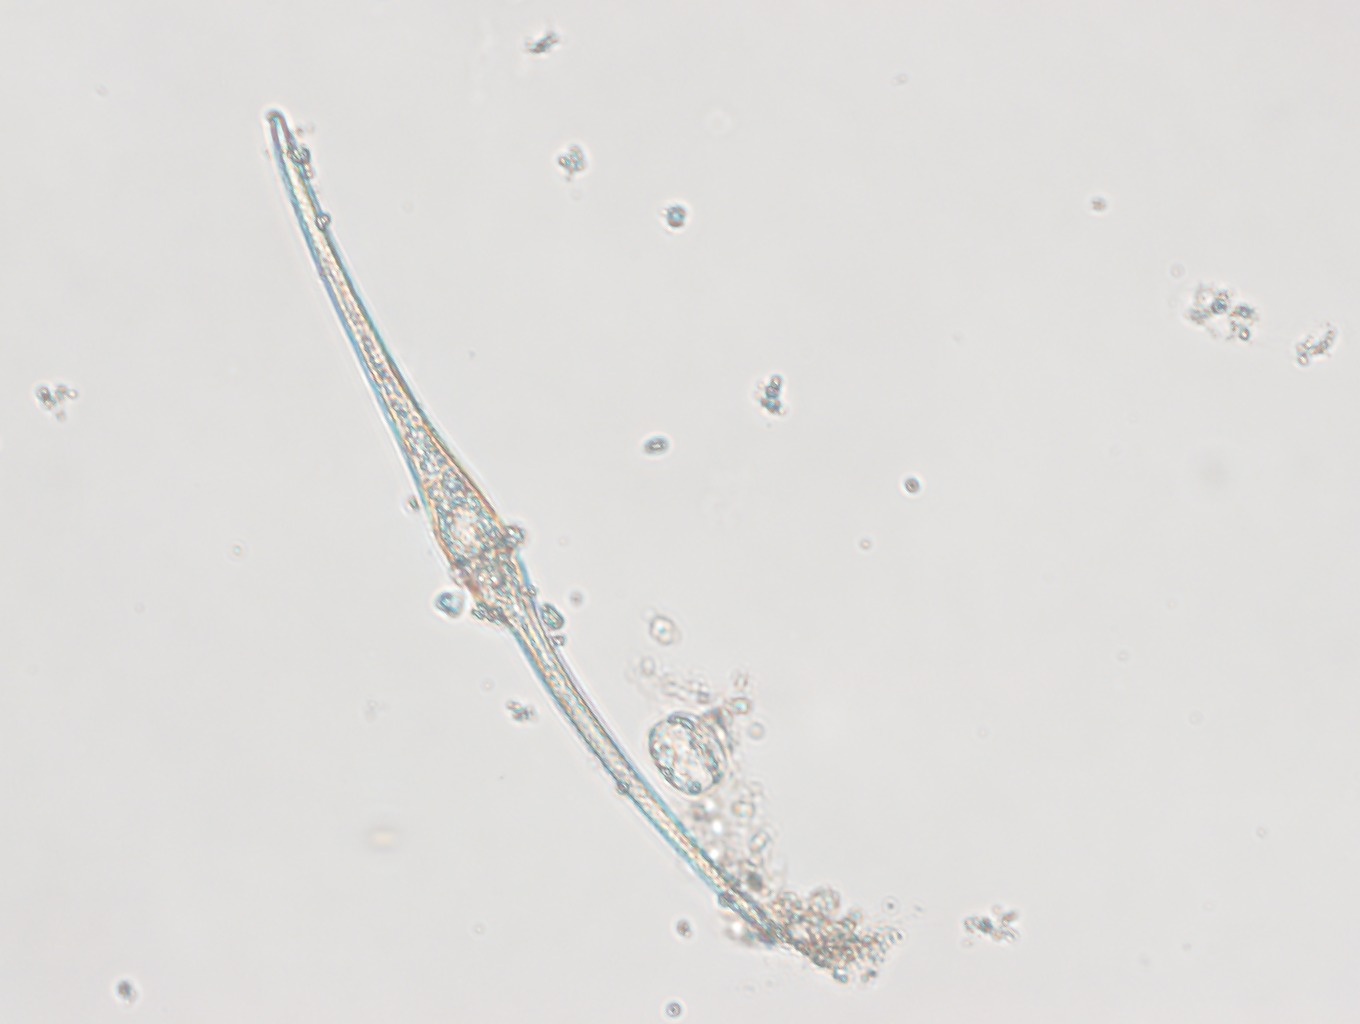ceratium fusus: (268, 110, 781, 940)
